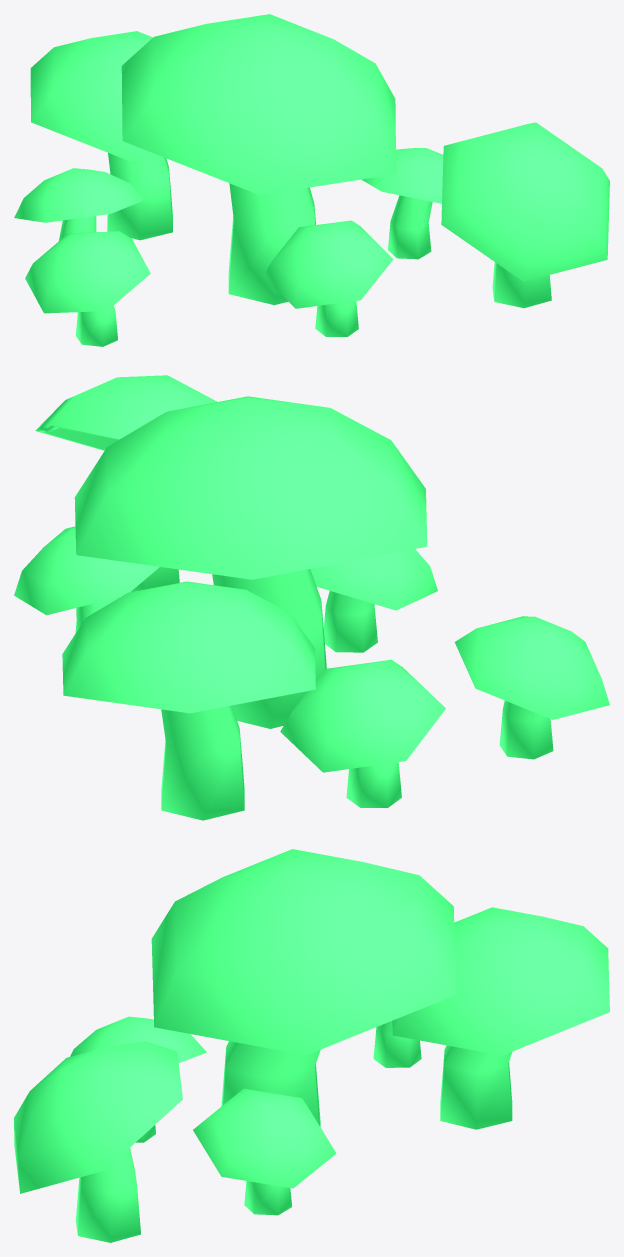
File: prp_Fungus_Light_02 (1).fbx
3 renders of one model, top to bottom at view 1: azimuth 30°, elevation 25°; view 2: azimuth 150°, elevation 25°; view 3: azimuth 270°, elevation 25°, orthographic. The views are drawn at different scales.
Parts seen in each view (by area): view 1: F_05, F_08, F_11, F_06, F_10, F_09, F_07; view 2: F_05, F_11, F_09, F_10, F_06, F_08, F_07; view 3: F_05, F_11, F_08, F_07, F_06, F_09.
Boxes of the visible parts, <box> form: F_05: <box>121,14,396,305</box>; F_08: <box>441,122,609,308</box>; F_11: <box>30,31,172,240</box>; F_06: <box>263,220,393,336</box>; F_10: <box>25,231,150,346</box>; F_09: <box>14,168,144,240</box>; F_07: <box>361,148,443,259</box>; F_05: <box>74,396,427,728</box>; F_11: <box>62,581,315,820</box>; F_09: <box>280,659,445,807</box>; F_10: <box>454,616,609,759</box>; F_06: <box>310,549,437,652</box>; F_08: <box>35,375,216,591</box>; F_07: <box>14,526,159,633</box>; F_05: <box>151,849,456,1126</box>; F_11: <box>392,907,609,1129</box>; F_08: <box>14,1041,182,1242</box>; F_07: <box>193,1088,336,1215</box>; F_06: <box>70,1016,206,1142</box>; F_09: <box>373,1021,421,1067</box>.
Bounding box in the file's own units: 3.94 × 1.79 × 3.63.
